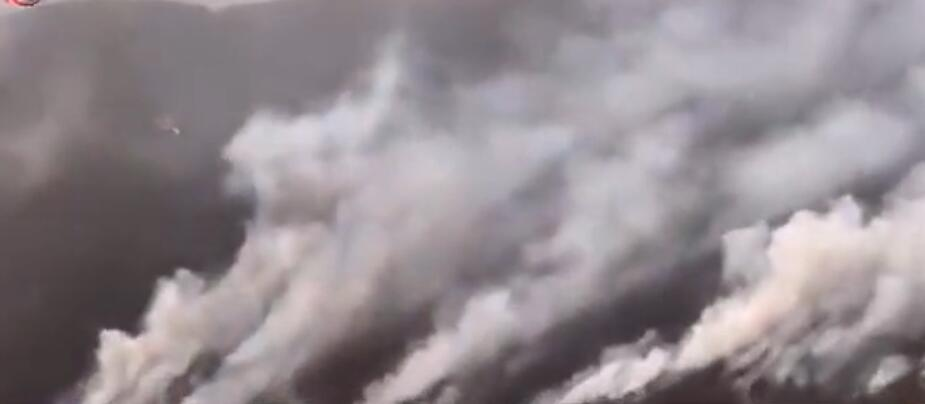yanwu: (74, 0, 924, 403)
